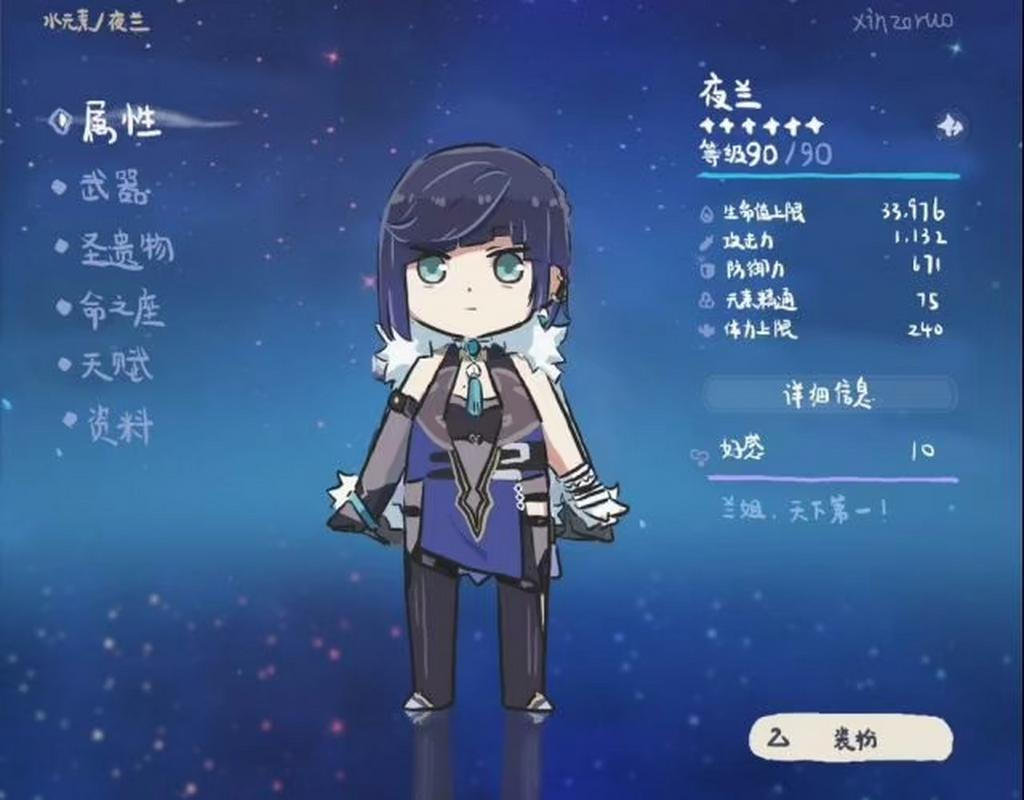夜兰: (325, 138, 639, 721)
